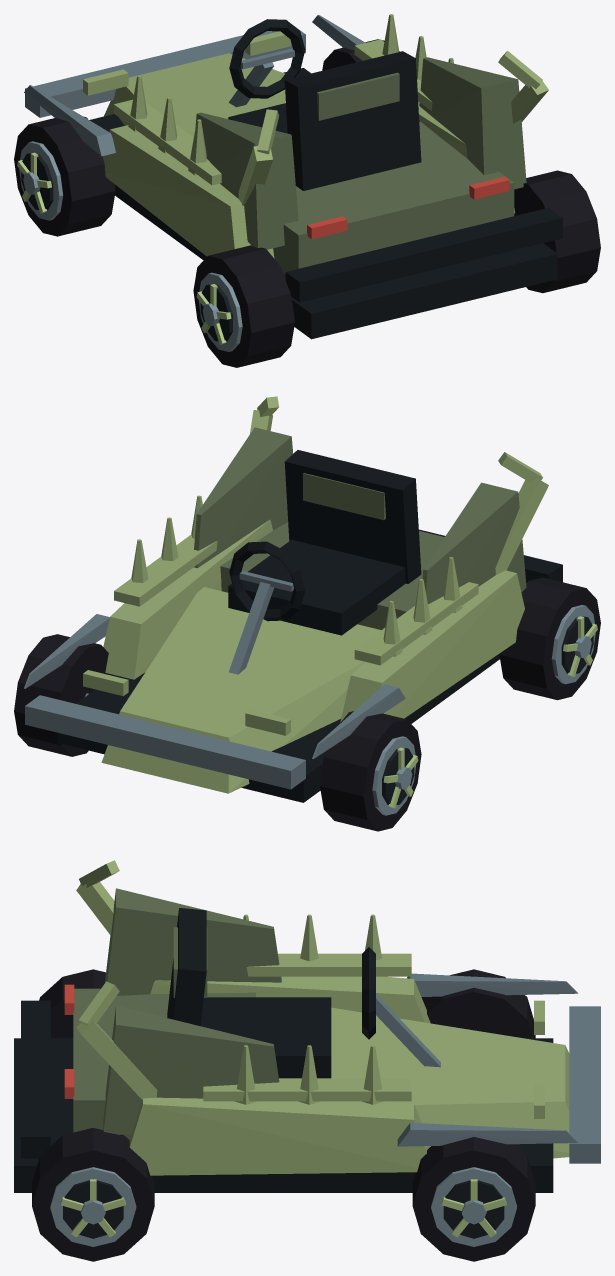
The model's file is kart.glb.
3 renders of one model, top to bottom at view 1: azimuth 30°, elevation 25°; view 2: azimuth 150°, elevation 25°; view 3: azimuth 270°, elevation 25°, orthographic. The views are drawn at different scales.
Visible parts, largest first — view 1: chassis, wheel-rear-left, wheel-front-left, wheel-rear-right, wheel-front-right; view 2: chassis, wheel-front-left, wheel-rear-left, wheel-front-right; view 3: chassis, wheel-rear-right, wheel-front-right, wheel-front-left, wheel-rear-left.
Part boxes in pixels (bbox=[...]): chassis: bbox=[24, 14, 562, 339]; wheel-rear-left: bbox=[193, 245, 294, 367]; wheel-front-left: bbox=[14, 116, 115, 236]; wheel-rear-right: bbox=[514, 170, 600, 293]; wheel-front-right: bbox=[322, 39, 399, 70]; chassis: bbox=[24, 396, 562, 802]; wheel-front-left: bbox=[320, 711, 421, 831]; wheel-rear-left: bbox=[499, 577, 600, 700]; wheel-front-right: bbox=[14, 634, 114, 756]; chassis: bbox=[14, 860, 600, 1192]; wheel-rear-right: bbox=[32, 1127, 154, 1261]; wheel-front-right: bbox=[412, 1137, 535, 1261]; wheel-front-left: bbox=[421, 969, 535, 1038]; wheel-rear-left: bbox=[39, 969, 105, 1038].
Size of the model in its own units: 2.33 by 1.38 by 2.96.
